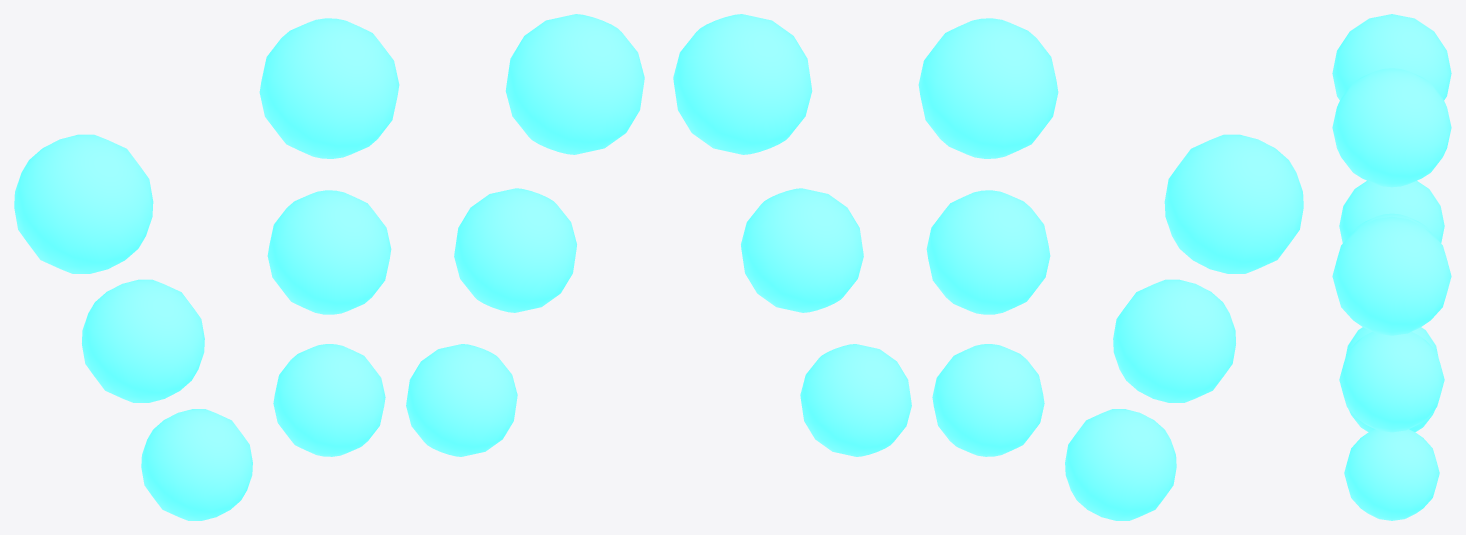
Rendered from Pickup.fbx.
3 views of the same model, side by side, from view 1: azimuth 30°, elevation 25°; view 2: azimuth 150°, elevation 25°; view 3: azimuth 270°, elevation 25° (orthographic). The views are drawn at different scales.
Parts seen in each view (by area): view 1: transp sphere.002, transp sphere.003, transp sphere.008, transp sphere.001, transp sphere.004, transp sphere.007, transp sphere, transp sphere.005, transp sphere.006; view 2: transp sphere.002, transp sphere.003, transp sphere.008, transp sphere.001, transp sphere.004, transp sphere.007, transp sphere, transp sphere.005, transp sphere.006; view 3: transp sphere.002, transp sphere.003, transp sphere.004, transp sphere.005, transp sphere.008, transp sphere.007, transp sphere.006, transp sphere, transp sphere.001.
Part boxes in pixels (left/top/right/bottom): transp sphere.002: left=259, top=18, right=399, bottom=158; transp sphere.003: left=505, top=14, right=644, bottom=154; transp sphere.008: left=14, top=134, right=153, bottom=273; transp sphere.001: left=267, top=190, right=391, bottom=314; transp sphere.004: left=454, top=188, right=576, bottom=312; transp sphere.007: left=82, top=279, right=204, bottom=402; transp sphere: left=273, top=344, right=385, bottom=456; transp sphere.005: left=406, top=344, right=517, bottom=456; transp sphere.006: left=141, top=409, right=252, bottom=520; transp sphere.002: left=918, top=18, right=1058, bottom=158; transp sphere.003: left=673, top=14, right=812, bottom=154; transp sphere.008: left=1164, top=134, right=1303, bottom=273; transp sphere.001: left=926, top=190, right=1050, bottom=314; transp sphere.004: left=741, top=188, right=863, bottom=312; transp sphere.007: left=1113, top=279, right=1235, bottom=402; transp sphere: left=932, top=344, right=1044, bottom=456; transp sphere.005: left=800, top=344, right=911, bottom=456; transp sphere.006: left=1065, top=409, right=1176, bottom=520; transp sphere.002: left=1332, top=68, right=1451, bottom=187; transp sphere.003: left=1332, top=216, right=1451, bottom=335; transp sphere.004: left=1339, top=332, right=1444, bottom=432; transp sphere.005: left=1344, top=429, right=1439, bottom=520; transp sphere.008: left=1332, top=14, right=1451, bottom=100; transp sphere.007: left=1339, top=180, right=1444, bottom=242; transp sphere.006: left=1346, top=327, right=1437, bottom=354; transp sphere: left=1348, top=409, right=1435, bottom=432; transp sphere.001: left=1353, top=213, right=1430, bottom=231.
Size of the model in its own units: 1303 by 932 by 259.
